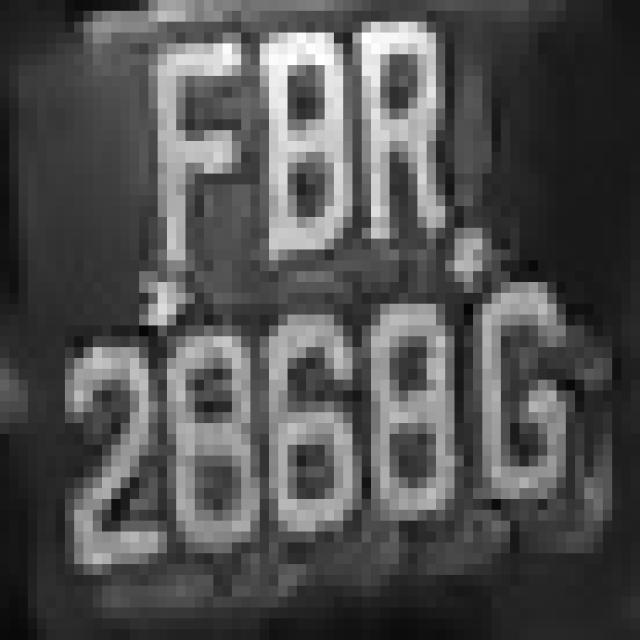2: (28, 347, 158, 586)
6: (250, 282, 362, 542)
8: (352, 272, 464, 542), (148, 336, 278, 564)
B: (241, 11, 371, 271)
F: (130, 11, 250, 249)
G: (473, 260, 603, 510)
R: (324, 11, 454, 260)
